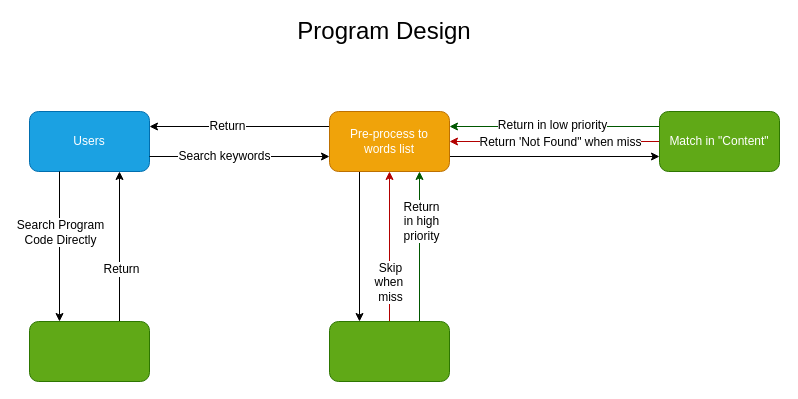
Some shapes in this 798 by 399 pixel diagram are drawn without their labels. Each missing label, with the centre of its shape:
Match in "Subject Code": point (89, 351)
Match in "Subject Title": point (389, 351)
